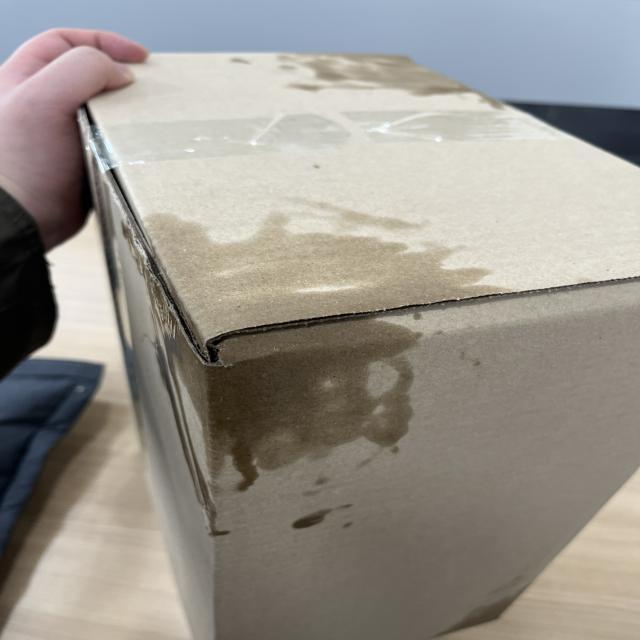wet: (129, 212, 464, 511), (262, 42, 483, 104)
